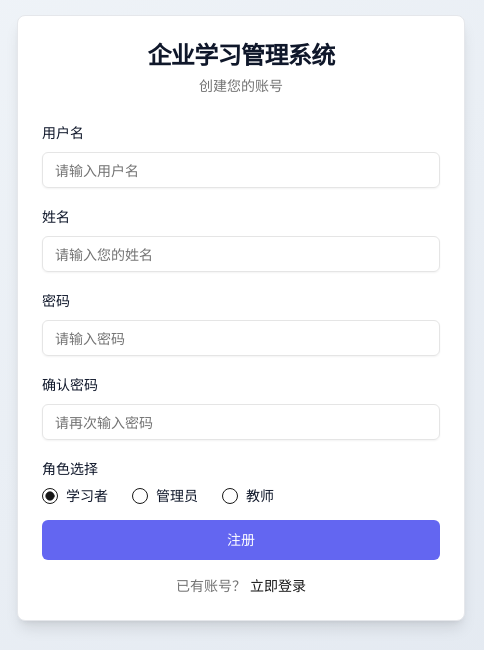
Register Page Redesign › Primary Button › is disabled during submission
This screenshot has width=484, height=650.
In the field with placeholder "请输入用户名": [241, 170] box [42, 152, 440, 188], type "testuser"
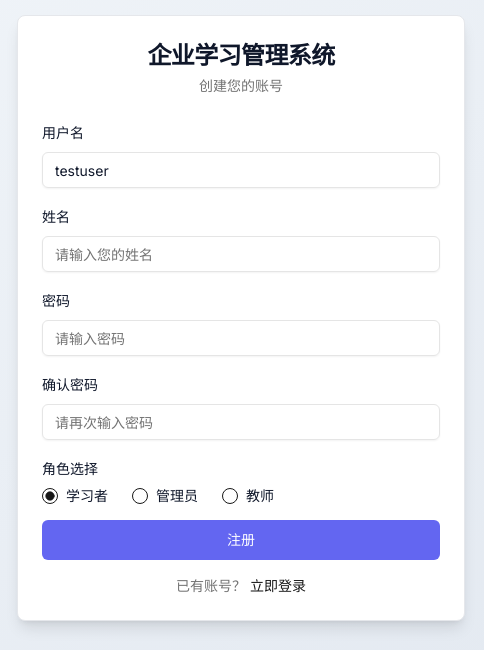
In the field with placeholder "请输入您的姓名": [241, 254] box [42, 236, 440, 272], type "测试用户"
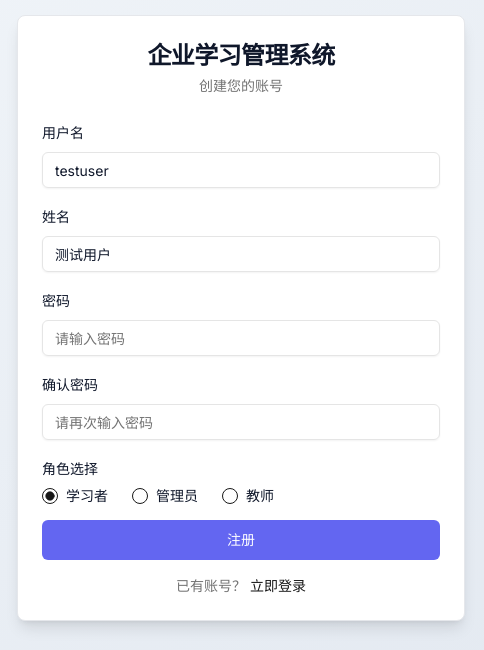
In the password field with placeholder "请输入密码": [241, 338] box [42, 320, 440, 356], type "password123"
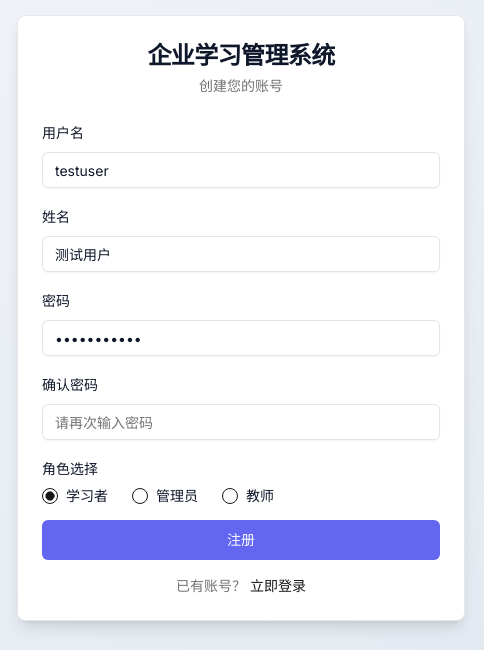
In the password field with placeholder "请再次输入密码": [241, 422] box [42, 404, 440, 440], type "password123"
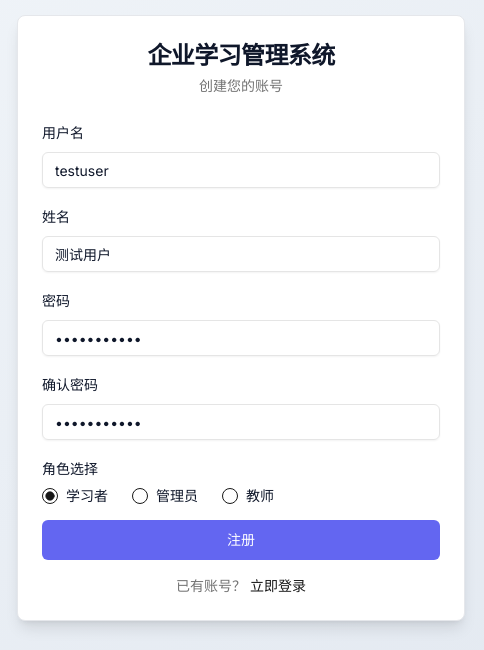
Click the button "注册": [241, 540] box [42, 520, 440, 560]
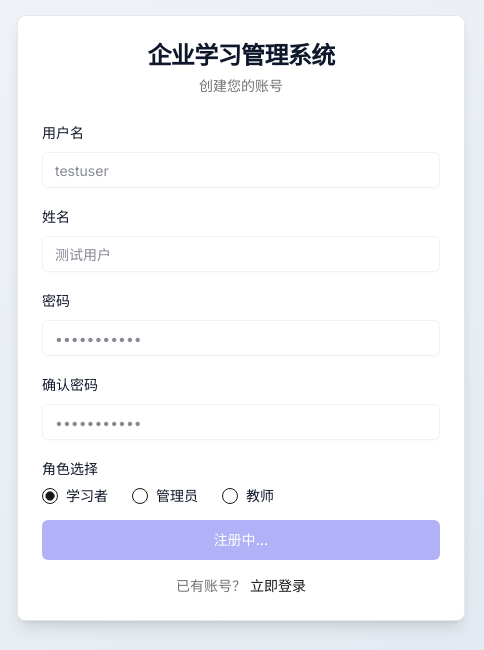
Now the button "注册中..." is disabled, box [42, 520, 440, 560]
